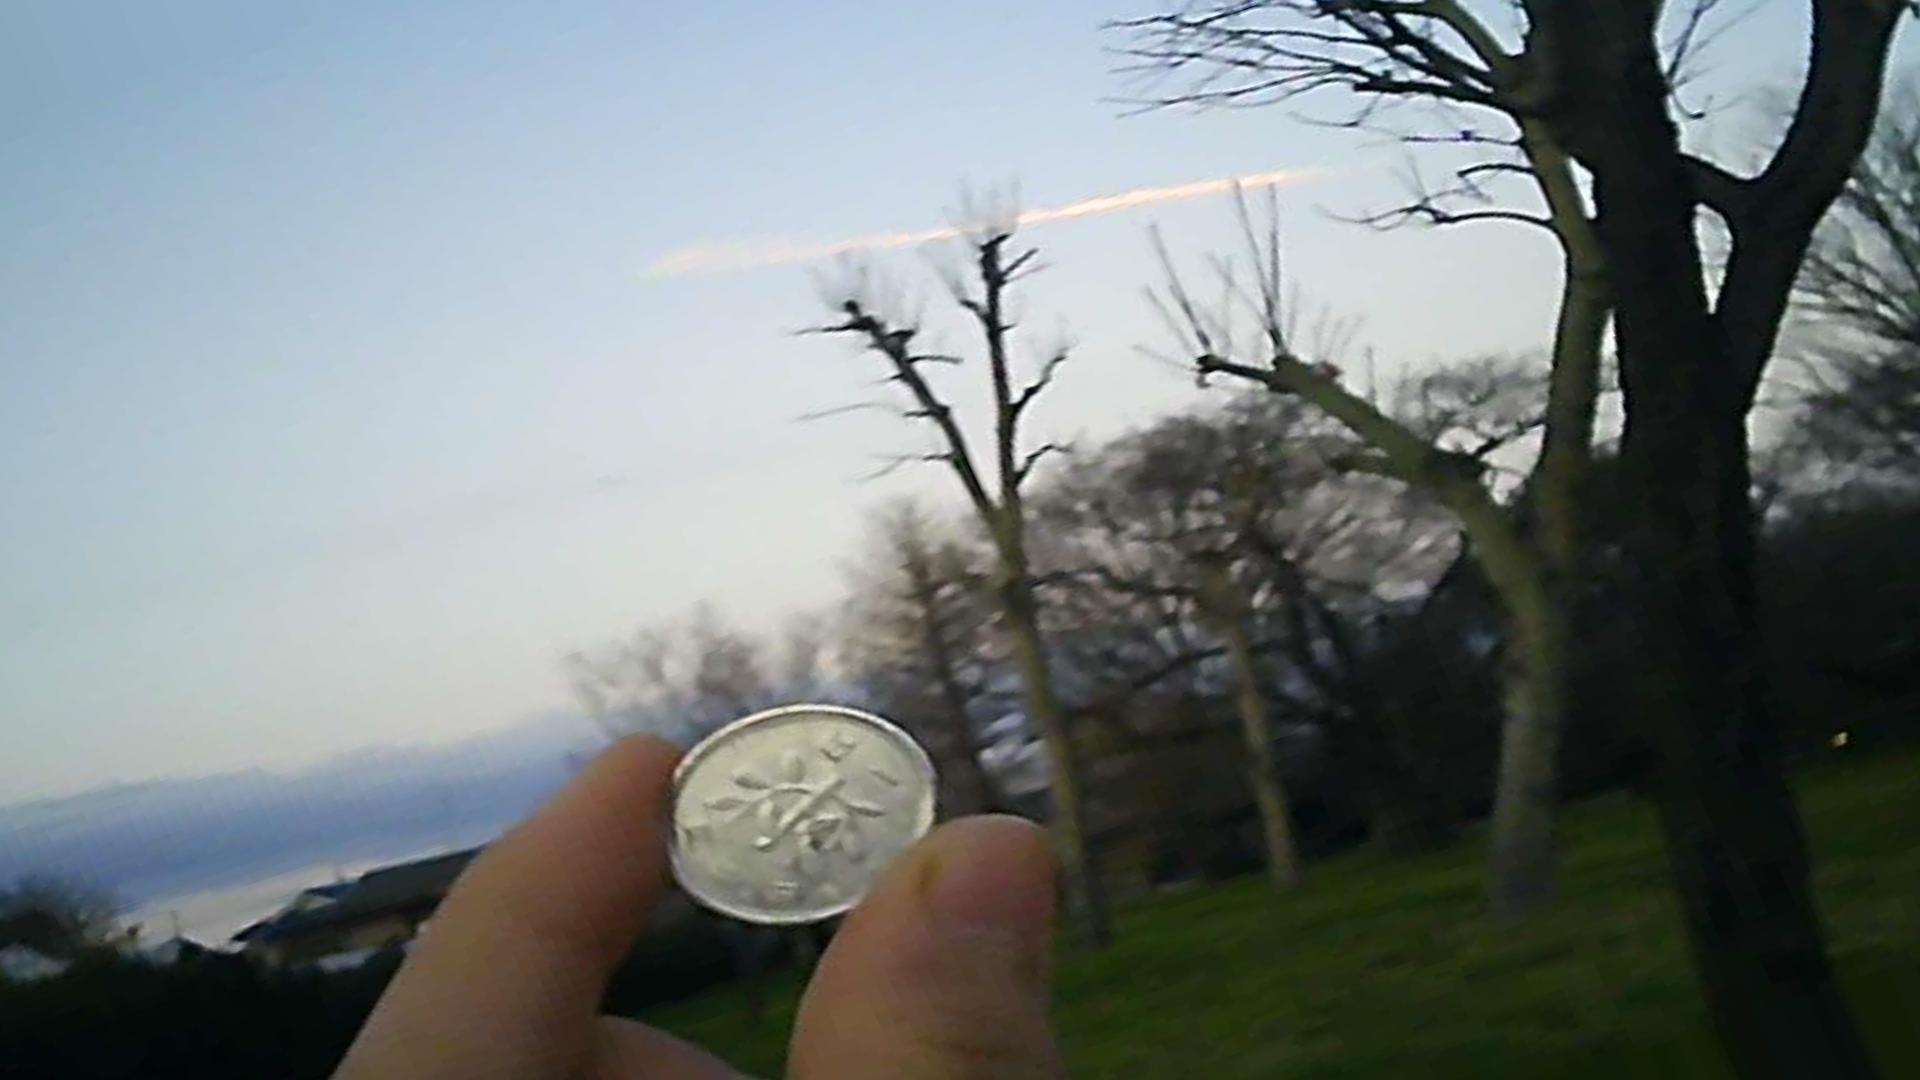1 Yen: (659, 709, 969, 939)
